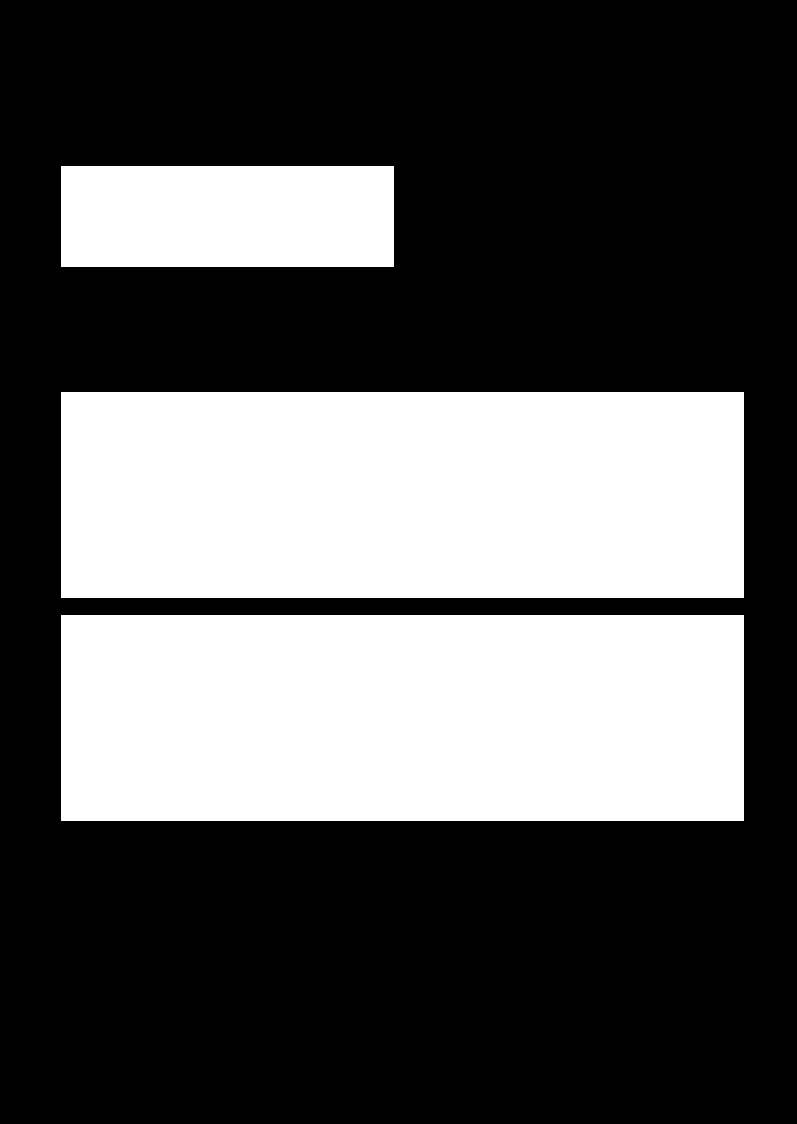table: (61, 392, 743, 597), (61, 615, 743, 820), (61, 166, 393, 266)
